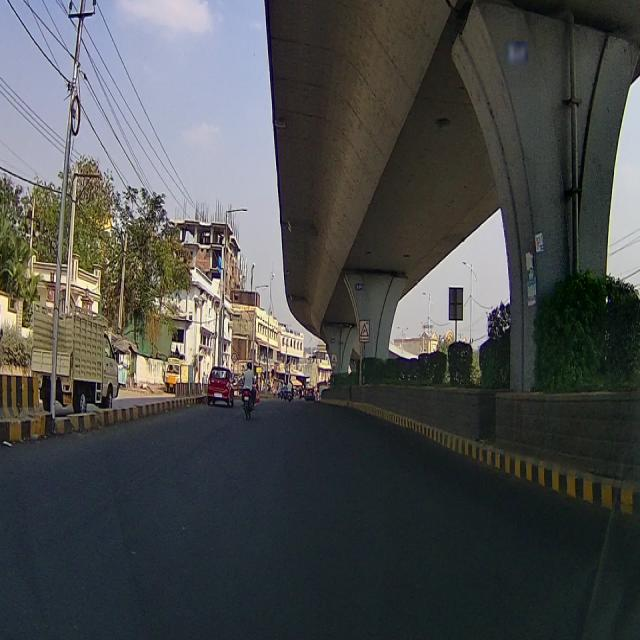right-hand-curve: (359, 319, 371, 341)
